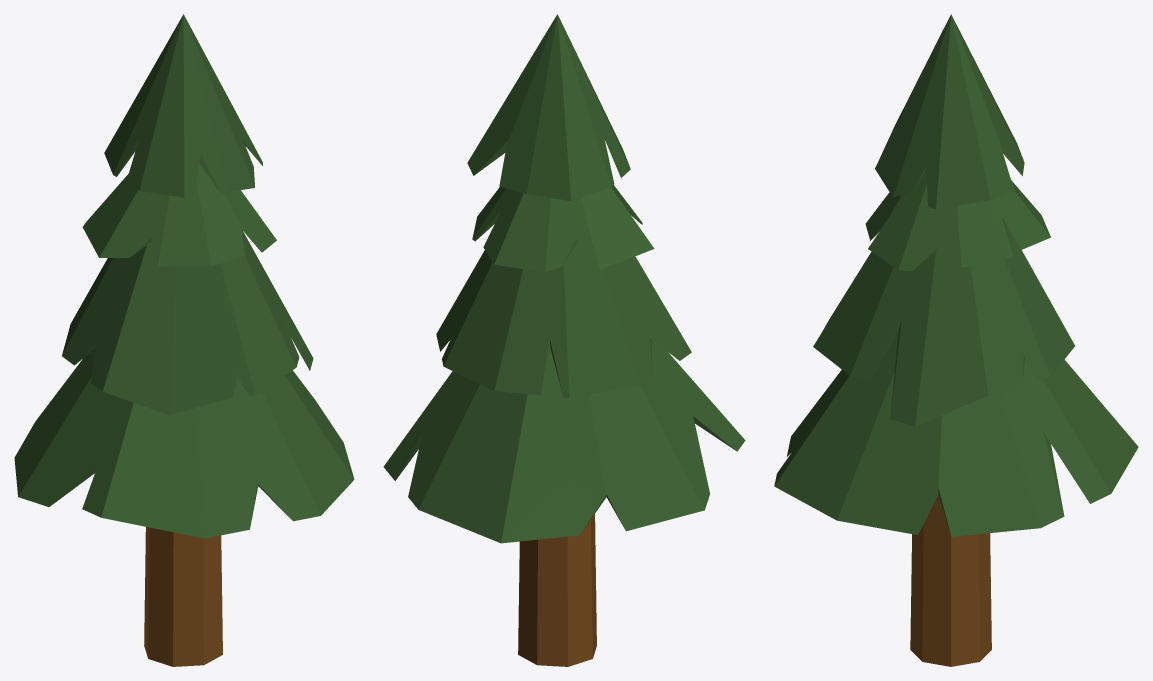
File: Nadelbaum_01_unsymetric_02_rdy.fbx
3 renders of one model, left to right at view 1: azimuth 30°, elevation 25°; view 2: azimuth 150°, elevation 25°; view 3: azimuth 270°, elevation 25°, orthographic.
Visible parts, largest first — view 1: Nadelbaum_01_unsymetric_02; view 2: Nadelbaum_01_unsymetric_02; view 3: Nadelbaum_01_unsymetric_02.
Part boxes in pixels (x1,y1,x2,y2): Nadelbaum_01_unsymetric_02: (14, 14, 354, 666); Nadelbaum_01_unsymetric_02: (383, 14, 745, 666); Nadelbaum_01_unsymetric_02: (774, 14, 1138, 666).
Size of the model in its own units: 620 by 1243 by 646.
